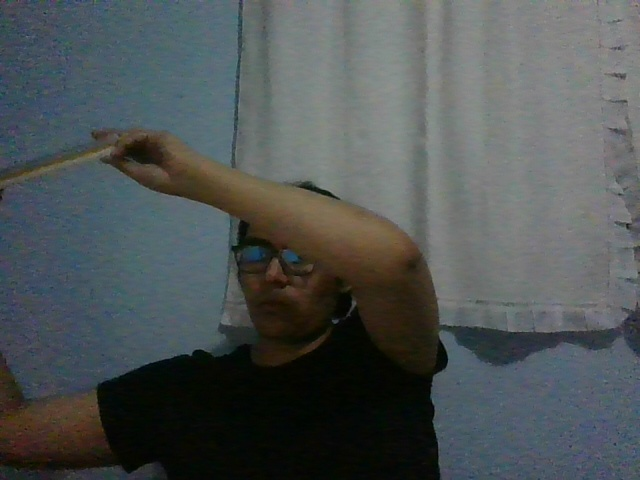regla: (1, 131, 129, 186)
